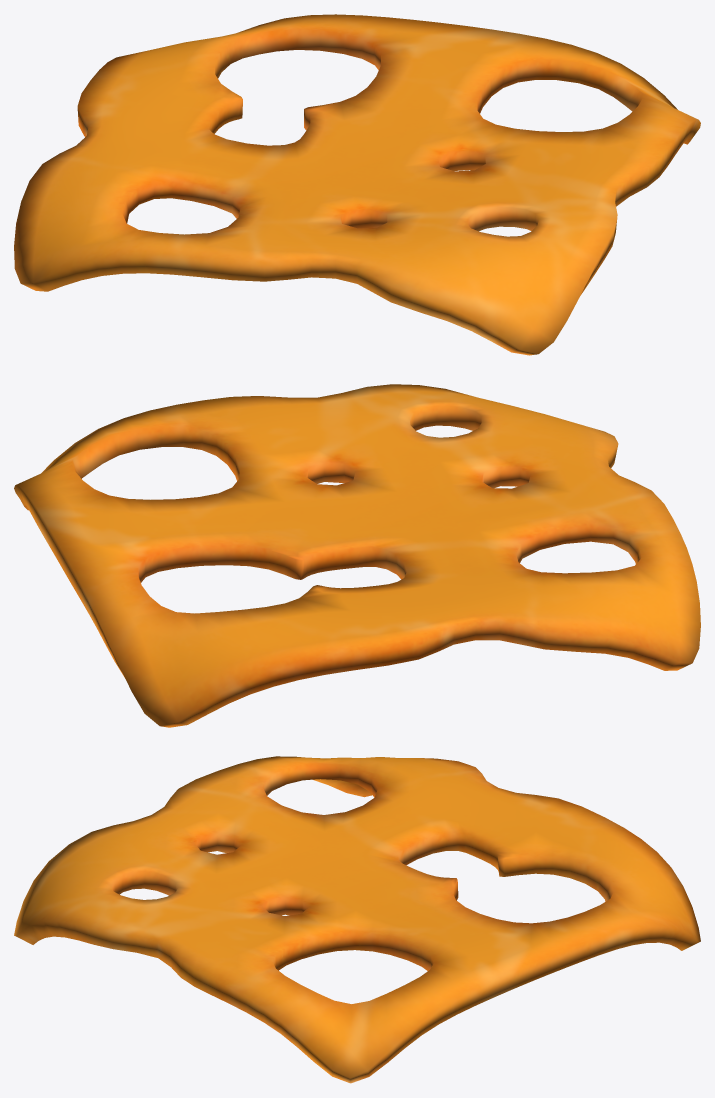
File: cheese.glb
3 views of the same model, one above another, from view 1: azimuth 30°, elevation 25°; view 2: azimuth 150°, elevation 25°; view 3: azimuth 270°, elevation 25° (orthographic). The views are drawn at different scales.
Visible parts, largest first — view 1: Cheese_low.001; view 2: Cheese_low.001; view 3: Cheese_low.001.
Boxes of the visible parts, x1,y1,x2,y2 form: Cheese_low.001: (14,14,700,355); Cheese_low.001: (14,384,700,727); Cheese_low.001: (14,756,700,1083).
Size of the model in its own units: 0.2392 by 0.0281 by 0.2335.
1 material, 1 textured.
